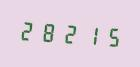eight: (38, 17, 57, 46)
five: (98, 22, 117, 50)
one: (78, 20, 97, 48)
two: (18, 16, 37, 44), (58, 19, 77, 47)
